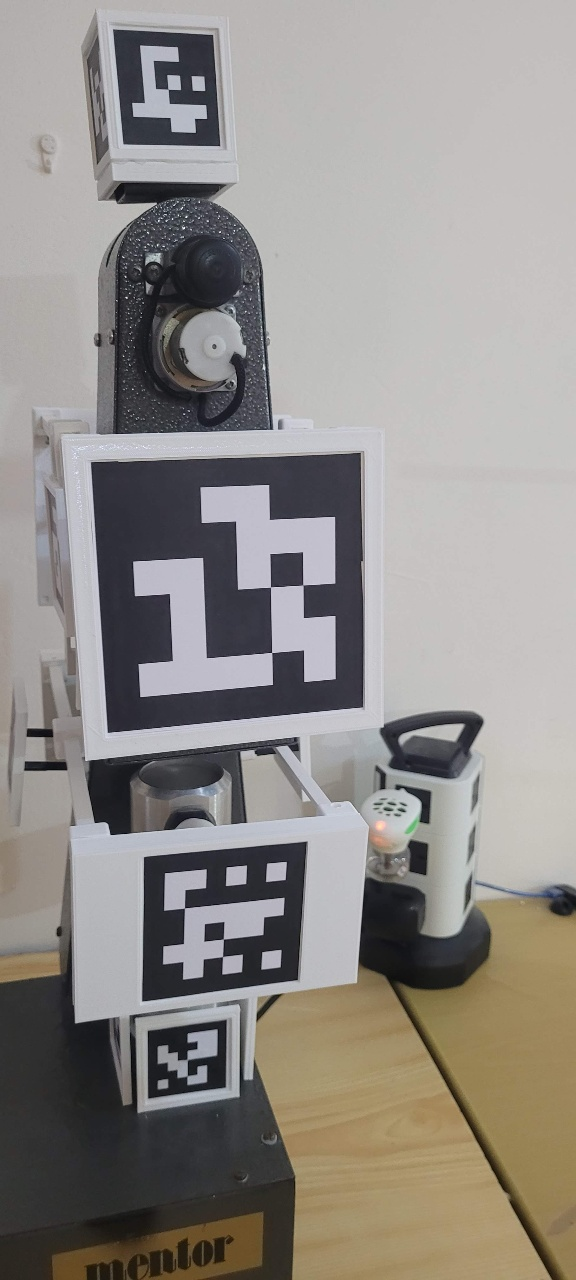Robot: (5, 5, 379, 1115)
